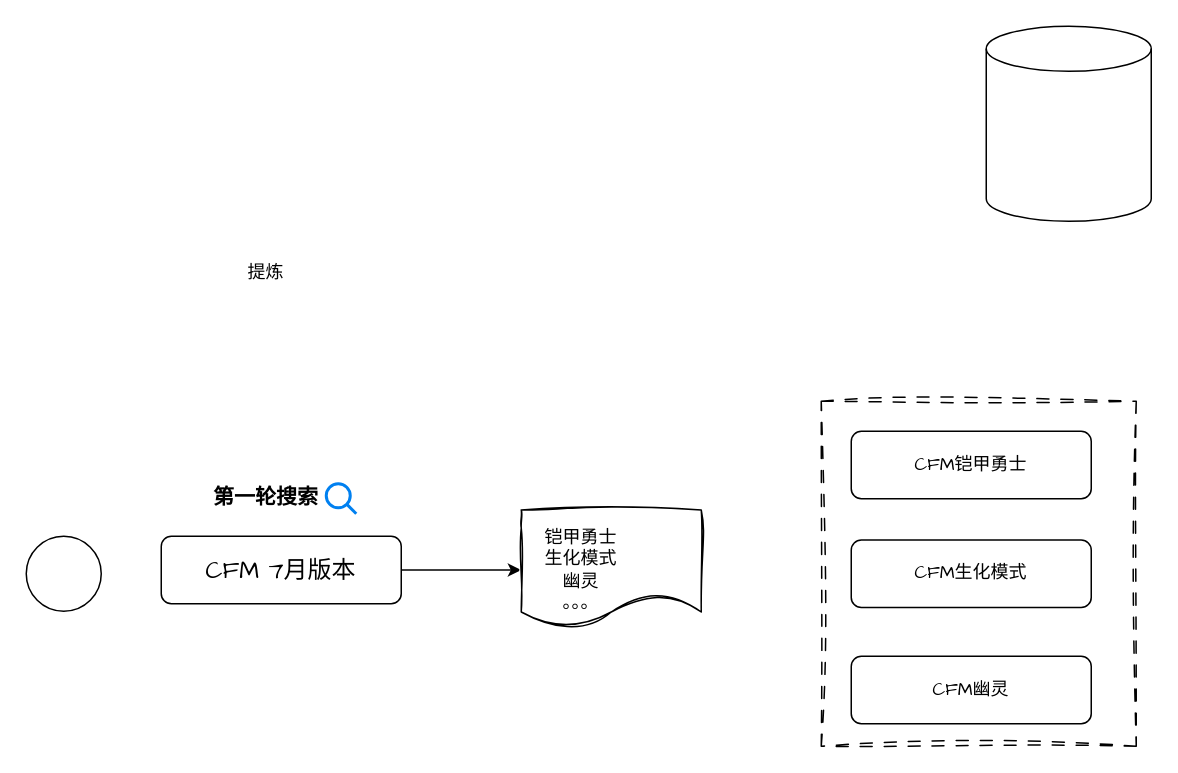
The diagram is 1178 pixels wide and 773 high, and some of its shapes have lost their labels. Each missing label, with the centre of its shape:
开始: the point at 63,573
游戏版本 知识图谱: the point at 1068,123
